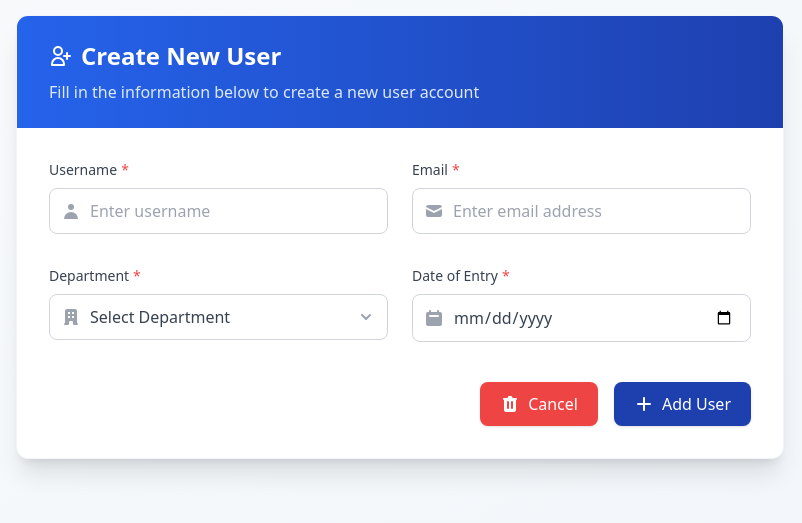
UserCreate Component › handles form with some empty fields
Type "testuser" into the field labelled "Username*". click: [218, 211]
box: 49,188 -> 388,234
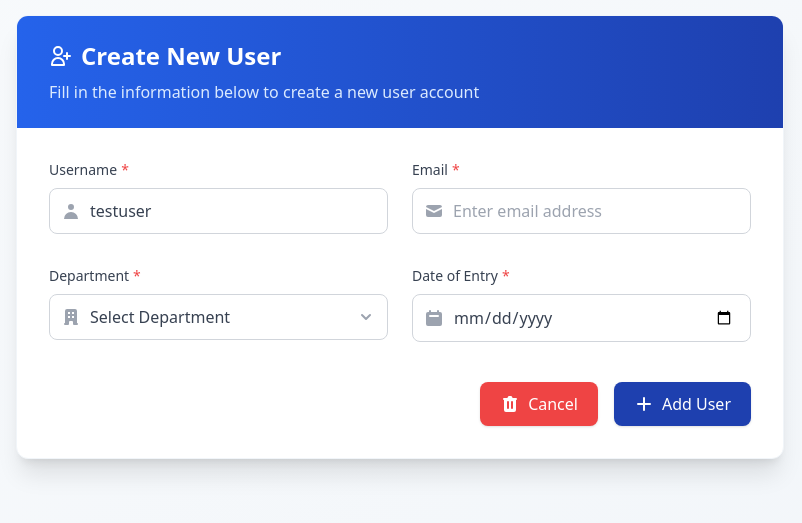
Type "test@example.com" into the field labelled "Email*". click: [582, 211]
box: 412,188 -> 751,234
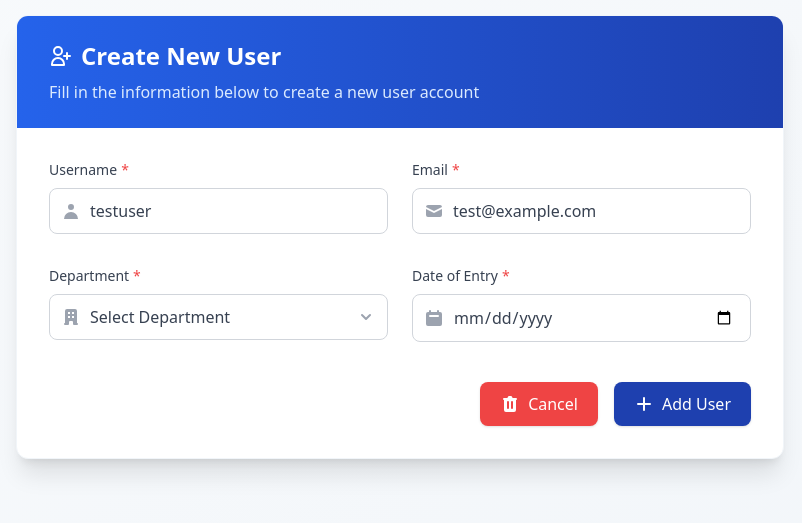
# Submit the form
Click the button "Add User". click: [682, 404]
box: 614,382 -> 751,426
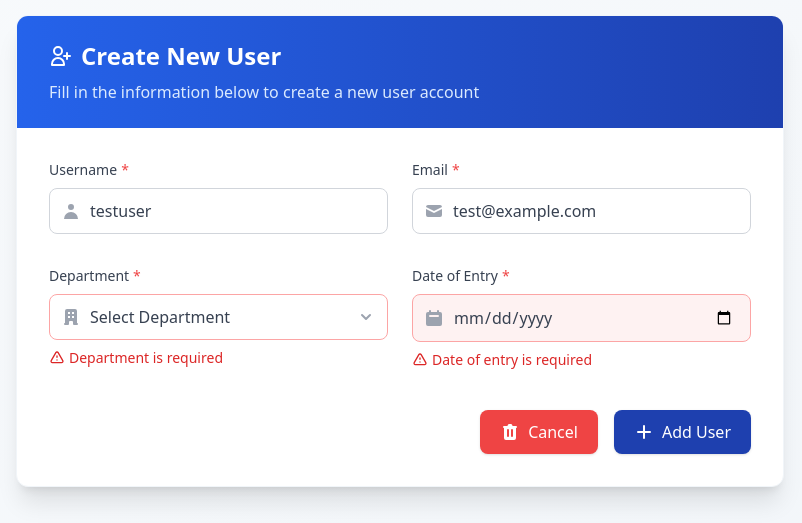
Check: the text "Department is required" is shown, box 49,348 -> 223,367
Check: the text "Date of entry is required" is shown, box 412,350 -> 592,369
